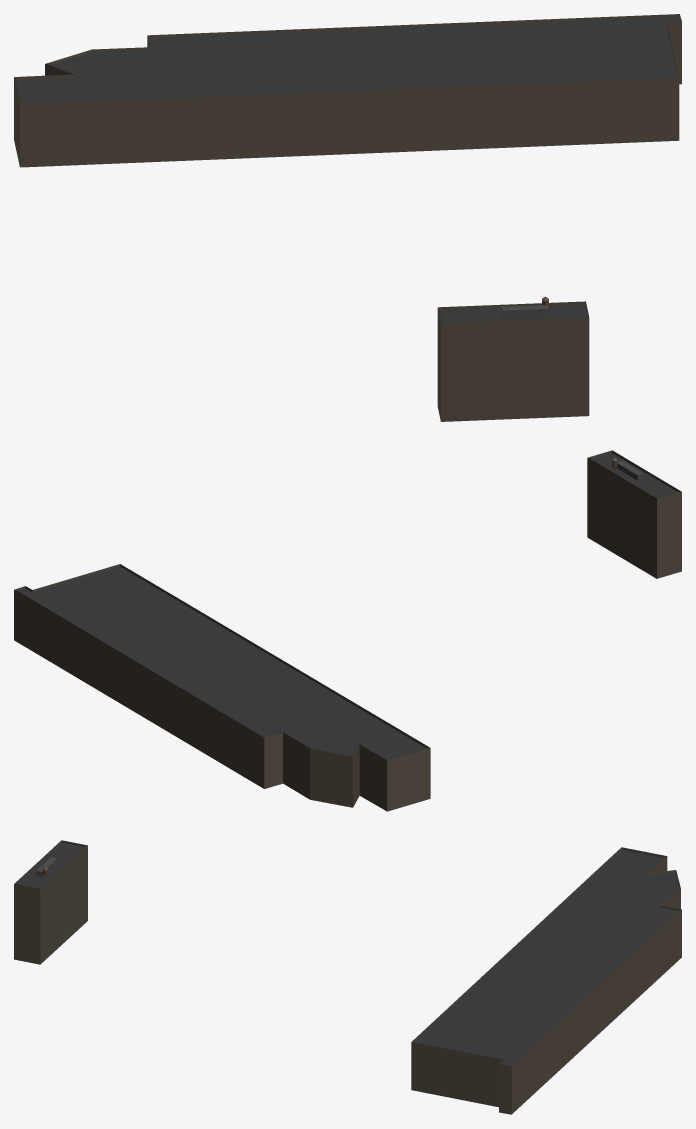
The model's file is manhattan_-07_-04.glb.
The picture shows the model from 3 angles, top to bottom: view 1: azimuth 30°, elevation 25°; view 2: azimuth 150°, elevation 25°; view 3: azimuth 270°, elevation 25°; orthographic projection. The views are drawn at different scales.
Parts seen in each view (by area): view 1: BLD_midrise_-07_-04; view 2: BLD_midrise_-07_-04; view 3: BLD_midrise_-07_-04.
Part boxes in pixels (<box>): BLD_midrise_-07_-04: <box>14,14,681,421</box>; BLD_midrise_-07_-04: <box>14,450,681,811</box>; BLD_midrise_-07_-04: <box>14,840,681,1114</box>.
Size of the model in its own units: 273 by 49.08 by 352.
